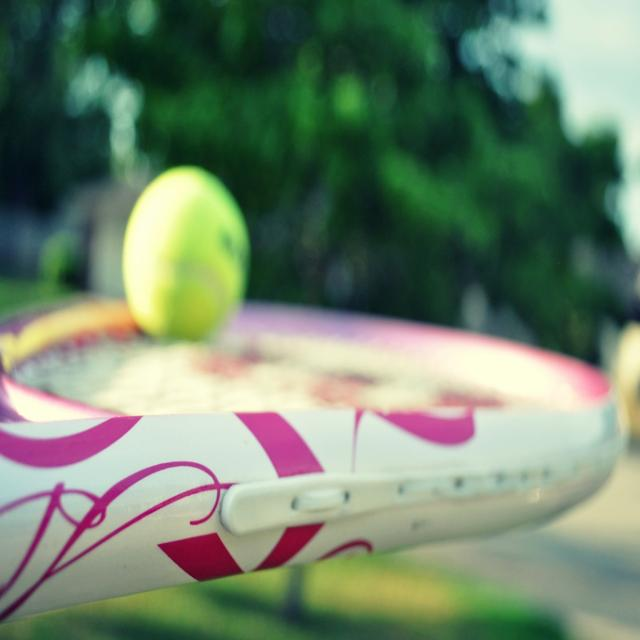Tennis ball: (121, 166, 251, 342)
